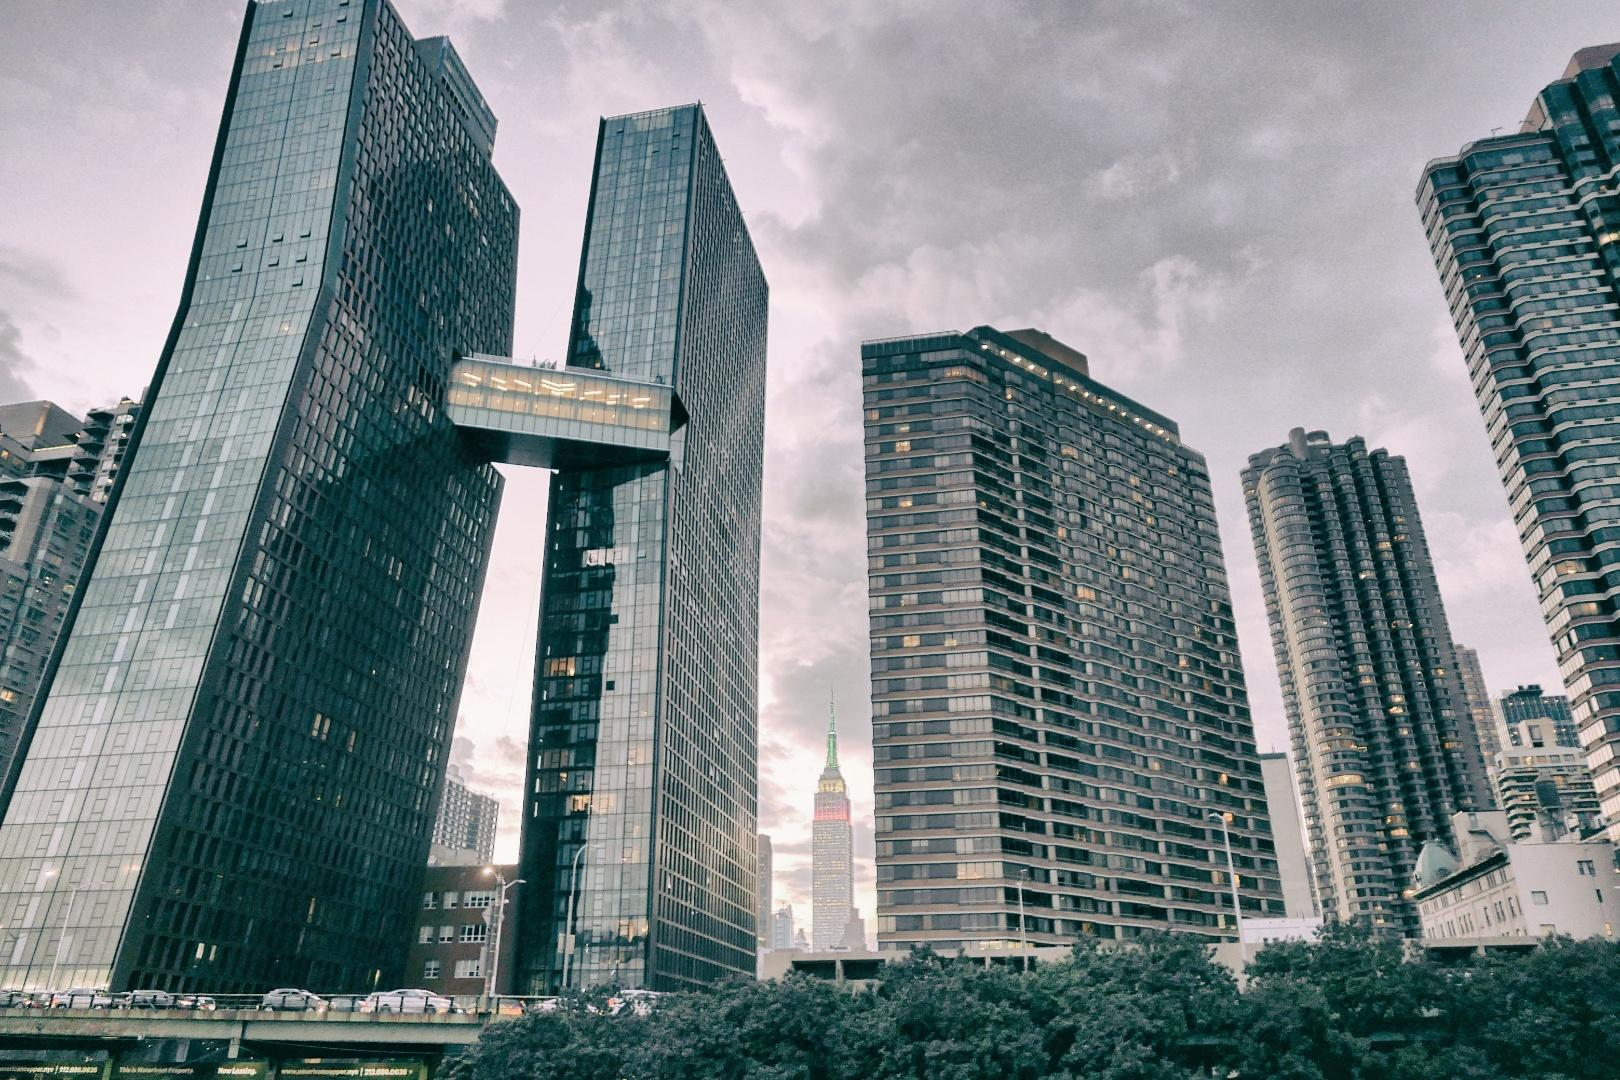biological: (74, 959, 574, 1080)
